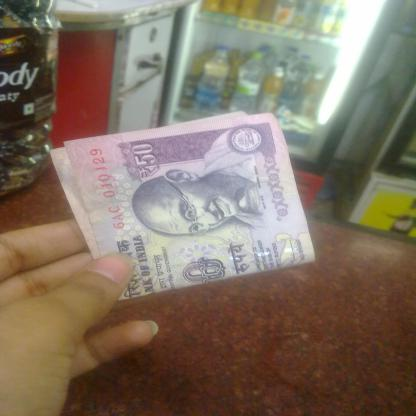Old50Front: (49, 111, 316, 300)
